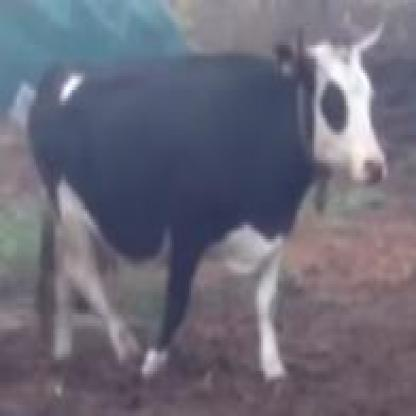cow: (28, 20, 386, 388)
